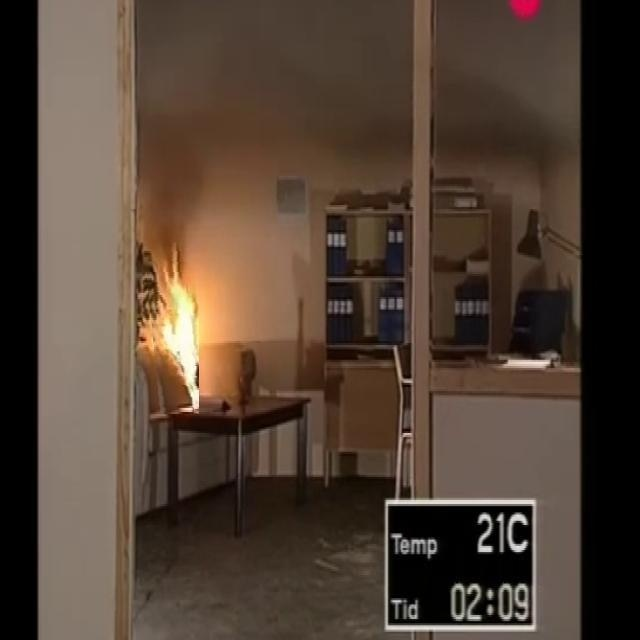fire: (148, 261, 218, 388)
